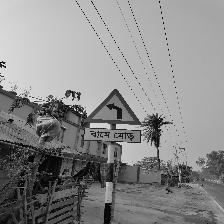Left-Turn: (82, 89, 142, 143)
